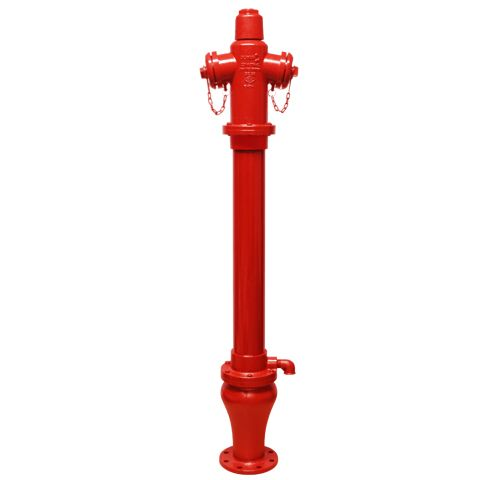FireHydrant: (194, 6, 311, 475)
